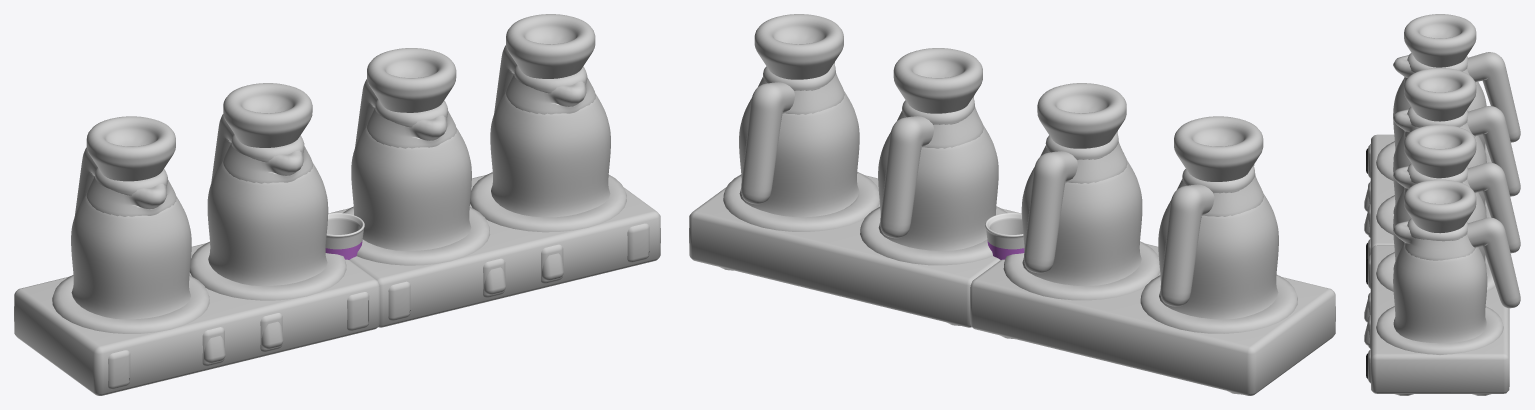
The model's file is Coffee Carafe Model resize (1).fbx.
3 views of the same model, side by side, from view 1: azimuth 30°, elevation 25°; view 2: azimuth 150°, elevation 25°; view 3: azimuth 270°, elevation 25° (orthographic). The views are drawn at different scales.
Parts seen in each view (by area): view 1: Coffee Carafe Station Inverted Normals, Cup; view 2: Coffee Carafe Station Inverted Normals, Cup; view 3: Coffee Carafe Station Inverted Normals.
Boxes of the visible parts, x1,y1,x2,y2 form: Coffee Carafe Station Inverted Normals: [14, 14, 660, 395]; Cup: [325, 213, 364, 259]; Coffee Carafe Station Inverted Normals: [689, 14, 1335, 395]; Cup: [985, 213, 1024, 259]; Coffee Carafe Station Inverted Normals: [1364, 14, 1520, 395].
Size of the model in its own units: 102 by 38.67 by 30.04.
